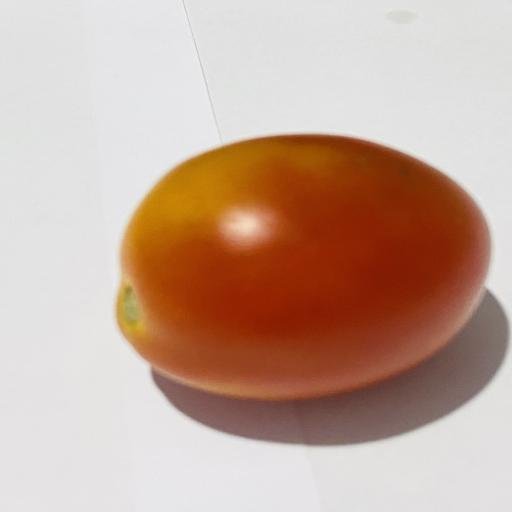ripe: (117, 135, 491, 399)
